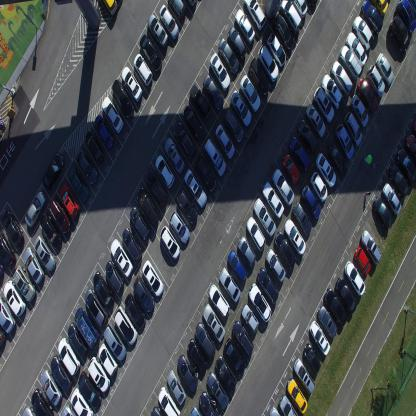car: (74, 307, 100, 347), (184, 168, 208, 209), (271, 167, 295, 207), (248, 283, 272, 323), (206, 370, 230, 410), (253, 197, 276, 238), (84, 288, 108, 327), (139, 33, 163, 72), (47, 198, 72, 235), (11, 265, 36, 302), (112, 78, 134, 120), (202, 303, 225, 343), (103, 322, 126, 362), (32, 234, 56, 272), (173, 121, 196, 160), (114, 306, 137, 345), (78, 371, 102, 408), (324, 287, 346, 327), (257, 43, 279, 83), (58, 336, 80, 376), (231, 318, 254, 356), (214, 355, 237, 393), (110, 238, 133, 276), (39, 212, 62, 250), (338, 44, 362, 80), (262, 180, 284, 219), (224, 337, 246, 376), (239, 74, 261, 113), (136, 187, 158, 226), (203, 138, 226, 175), (142, 260, 165, 297), (3, 280, 26, 317), (176, 355, 198, 393), (194, 322, 216, 360), (256, 266, 278, 304), (293, 357, 315, 395), (230, 89, 252, 127), (124, 292, 146, 330), (88, 354, 110, 392), (121, 66, 143, 104), (102, 96, 124, 134), (75, 147, 97, 185), (1, 209, 23, 247), (288, 135, 311, 171), (284, 218, 306, 255), (334, 276, 356, 313), (360, 229, 382, 266), (202, 73, 224, 110), (145, 170, 167, 207), (40, 369, 62, 406), (42, 153, 64, 190), (361, 0, 384, 35), (395, 147, 415, 187), (209, 52, 230, 90), (249, 58, 270, 96), (23, 247, 44, 285), (321, 74, 343, 110), (330, 60, 352, 96), (346, 30, 368, 66), (274, 232, 296, 268), (286, 377, 308, 413), (308, 320, 330, 356), (344, 260, 366, 296), (388, 163, 410, 199), (189, 83, 211, 119), (182, 104, 204, 140), (146, 13, 168, 49), (234, 8, 255, 45), (214, 123, 235, 160), (195, 155, 216, 192), (158, 3, 179, 40), (24, 191, 45, 228), (352, 15, 374, 50), (390, 15, 410, 53), (297, 118, 318, 154), (305, 102, 326, 138), (327, 141, 348, 177), (218, 38, 239, 74), (133, 276, 154, 312), (93, 272, 114, 308), (50, 356, 71, 392), (208, 284, 230, 318), (219, 268, 241, 302), (280, 0, 302, 34), (168, 210, 190, 244), (128, 206, 150, 240), (58, 184, 80, 218), (314, 86, 334, 123), (335, 122, 355, 159), (164, 137, 184, 174), (94, 113, 114, 150), (315, 152, 336, 187), (176, 189, 197, 224), (67, 323, 88, 358), (68, 166, 89, 201), (275, 13, 294, 51), (187, 339, 207, 375), (292, 200, 312, 236), (318, 304, 338, 340), (382, 180, 402, 216), (243, 0, 267, 30), (265, 248, 286, 282), (159, 225, 180, 259), (223, 108, 244, 142), (246, 216, 266, 251), (266, 32, 286, 67), (154, 154, 174, 189), (372, 196, 393, 229), (157, 386, 180, 416), (227, 250, 247, 284), (358, 78, 378, 112), (122, 228, 142, 262), (84, 129, 104, 163), (167, 370, 186, 405), (344, 112, 363, 146), (302, 184, 321, 218), (98, 342, 117, 376), (133, 52, 152, 86), (70, 387, 93, 415), (351, 93, 369, 128), (237, 235, 256, 268), (105, 259, 124, 292), (30, 389, 54, 415), (0, 295, 16, 334), (376, 51, 394, 85), (367, 64, 385, 98), (198, 389, 221, 415), (241, 303, 259, 336), (282, 154, 300, 186), (310, 170, 328, 202), (303, 342, 321, 374), (228, 26, 246, 58), (0, 230, 15, 268), (397, 0, 415, 31), (353, 245, 371, 276), (278, 394, 298, 415), (166, 0, 186, 20), (404, 132, 416, 164), (370, 0, 389, 18), (290, 0, 308, 19), (100, 0, 118, 15), (61, 404, 77, 415), (20, 405, 37, 415), (182, 0, 196, 12), (0, 325, 7, 349), (150, 404, 164, 415), (189, 404, 201, 415), (269, 405, 282, 415), (0, 262, 5, 280)
